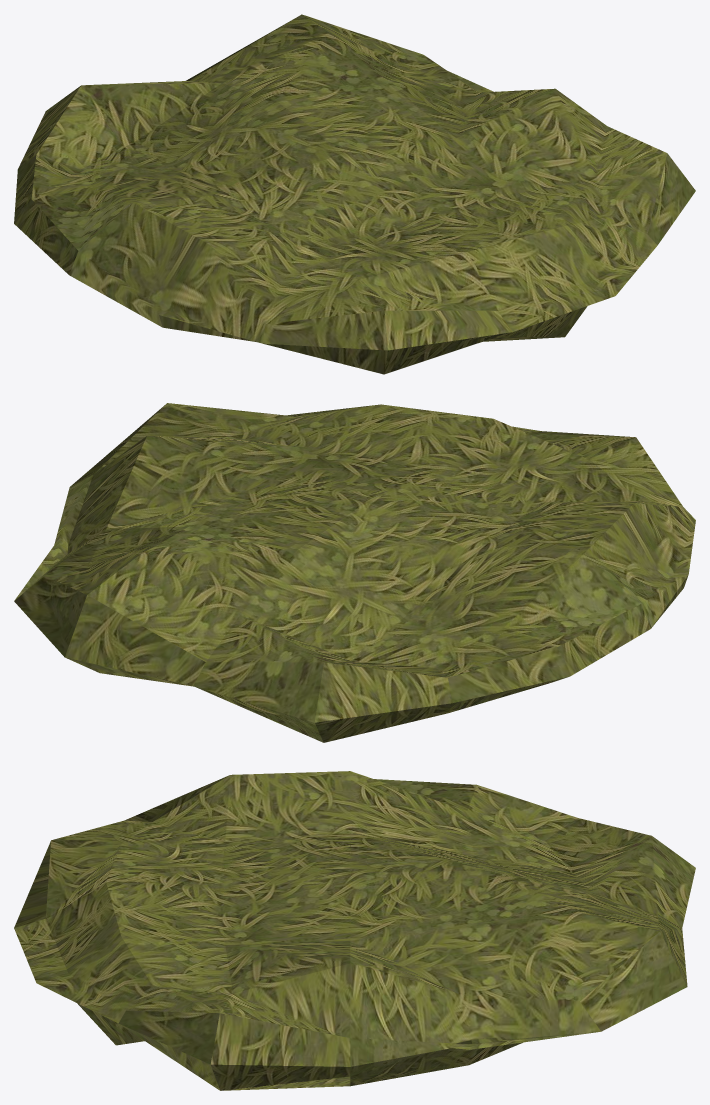
The model's file is grass01.fbx.
3 views of the same model, one above another, from view 1: azimuth 30°, elevation 25°; view 2: azimuth 150°, elevation 25°; view 3: azimuth 270°, elevation 25° (orthographic). The views are drawn at different scales.
Visible parts, largest first — view 1: Cube; view 2: Cube; view 3: Cube.
Boxes of the visible parts, <box> form: Cube: <box>14,14,695,374</box>; Cube: <box>14,403,695,742</box>; Cube: <box>14,771,695,1090</box>.
Size of the model in its own units: 4.69 by 4.97 by 1.1.
